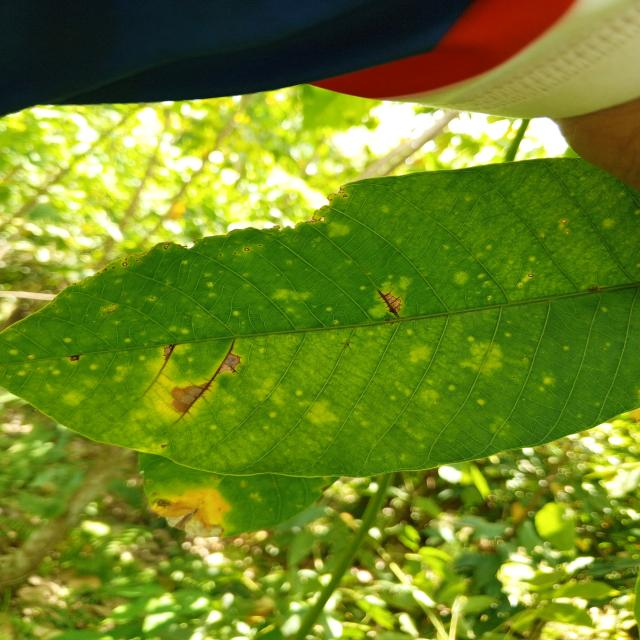Colletotrichum: (244, 247, 250, 251), (122, 262, 128, 266), (528, 273, 533, 277), (561, 220, 567, 223), (161, 444, 165, 448), (565, 231, 569, 235), (343, 195, 347, 198), (519, 285, 522, 287), (334, 321, 336, 322)
Corynespora: (177, 342, 242, 421), (376, 287, 402, 316), (163, 343, 177, 363), (229, 366, 239, 374)
Leaf-Blight: (172, 382, 208, 413), (219, 354, 240, 373)
